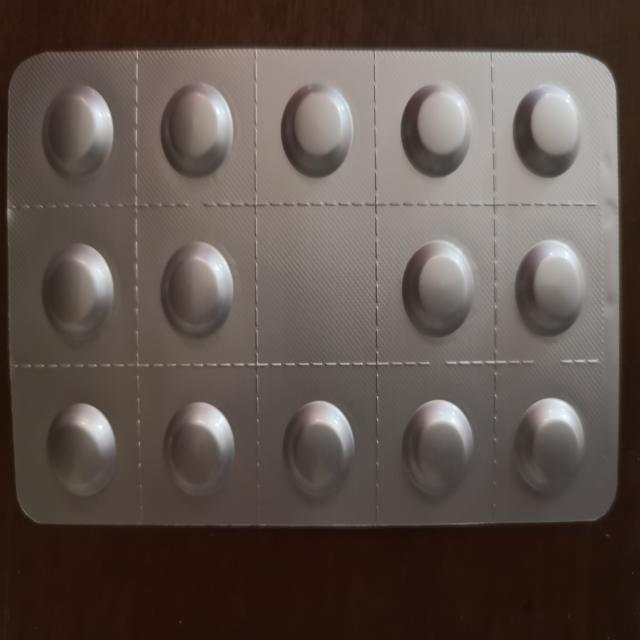Pill: (280, 392, 360, 504), (154, 236, 240, 340), (399, 394, 479, 504), (36, 240, 116, 346), (511, 396, 591, 501), (42, 397, 121, 501), (274, 80, 356, 180), (34, 84, 115, 185), (400, 236, 476, 342), (158, 80, 236, 182), (510, 78, 586, 182), (514, 233, 588, 338), (160, 396, 236, 498), (397, 78, 473, 176)
